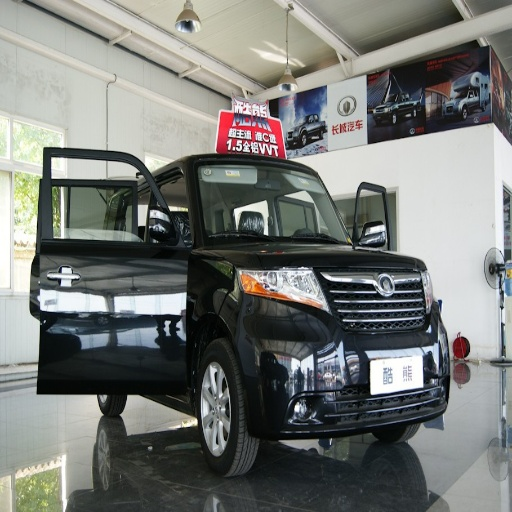back_bumper: (246, 350, 326, 436)
trunk: (52, 236, 282, 371)
